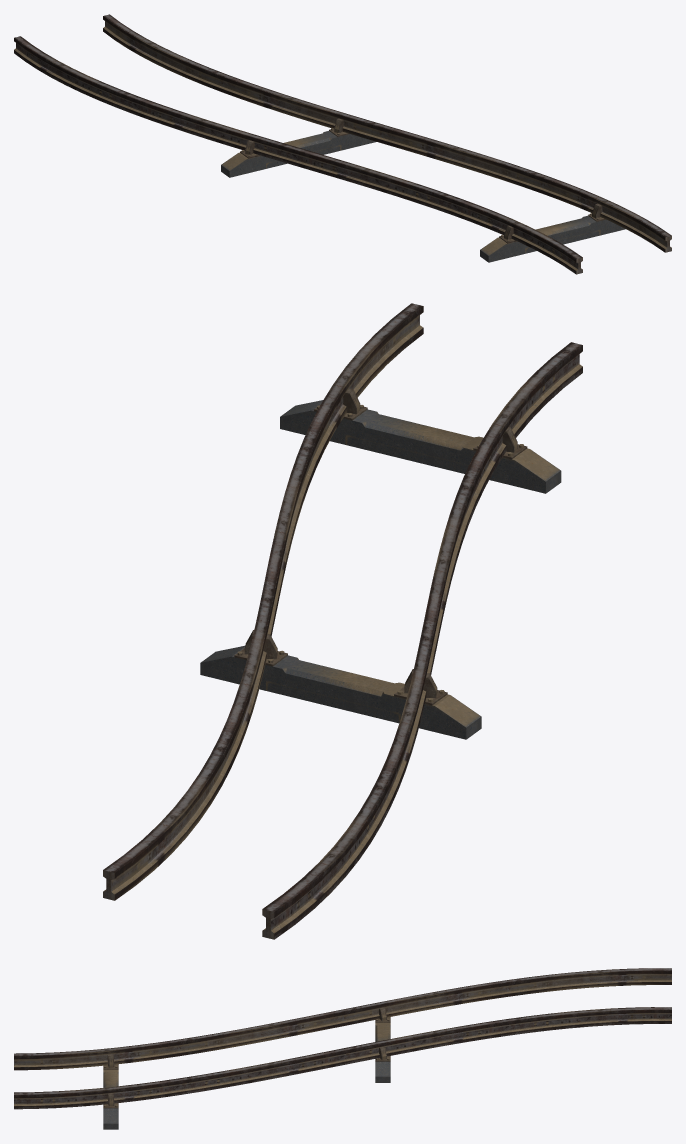
Rendered from SM_TrackRailTransition.FBX.
3 renders of one model, top to bottom at view 1: azimuth 30°, elevation 25°; view 2: azimuth 150°, elevation 25°; view 3: azimuth 270°, elevation 25°, orthographic. The views are drawn at different scales.
Visible parts, largest first — view 1: SM_TrackRailTransition; view 2: SM_TrackRailTransition; view 3: SM_TrackRailTransition.
Part boxes in pixels (x1=…): SM_TrackRailTransition: x1=14, y1=14, x2=671, y2=274; SM_TrackRailTransition: x1=103, y1=303, x2=582, y2=939; SM_TrackRailTransition: x1=14, y1=968, x2=671, y2=1129.
Bounding box in the file's own units: 577 × 1200 × 56.
